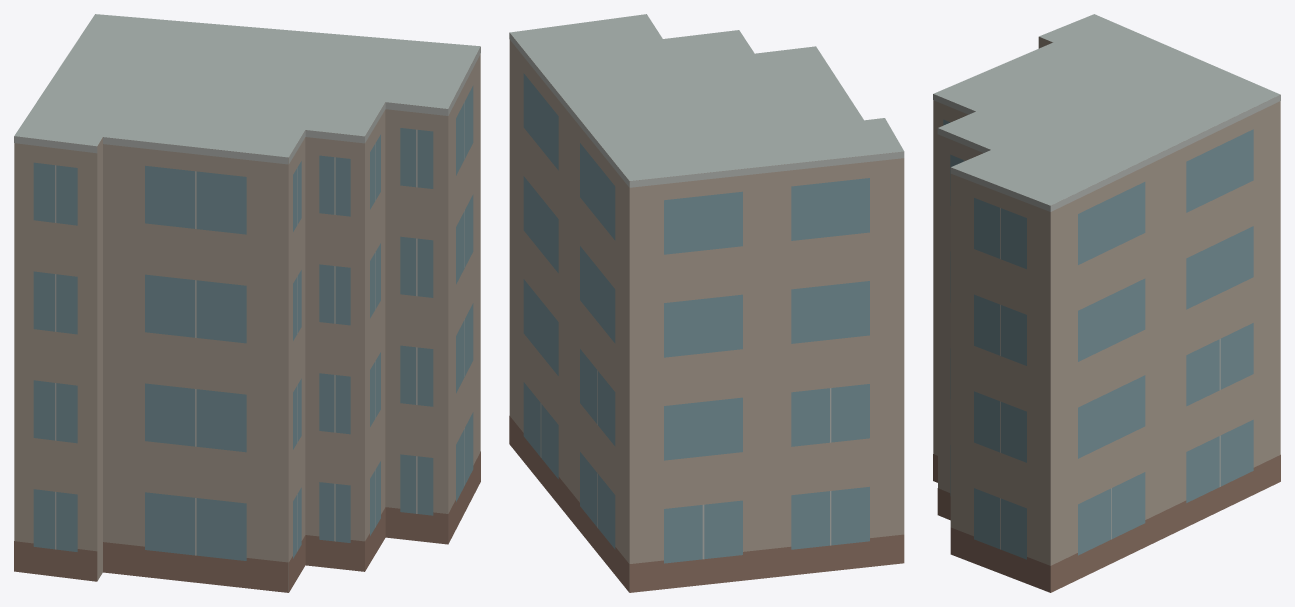
Rendered from survey-upis-33001543.glb.
3 views of the same model, side by side, from view 1: azimuth 30°, elevation 25°; view 2: azimuth 150°, elevation 25°; view 3: azimuth 270°, elevation 25° (orthographic). The views are drawn at different scales.
Parts seen in each view (by area): view 1: survey-upis-33001543.tmp; view 2: survey-upis-33001543.tmp; view 3: survey-upis-33001543.tmp.
Part boxes in pixels (x1=…): survey-upis-33001543.tmp: x1=14, y1=14, x2=480, y2=592; survey-upis-33001543.tmp: x1=509, y1=14, x2=904, y2=592; survey-upis-33001543.tmp: x1=933, y1=14, x2=1280, y2=592.
Size of the model in its own units: 16.05 by 15.1 by 12.29.
